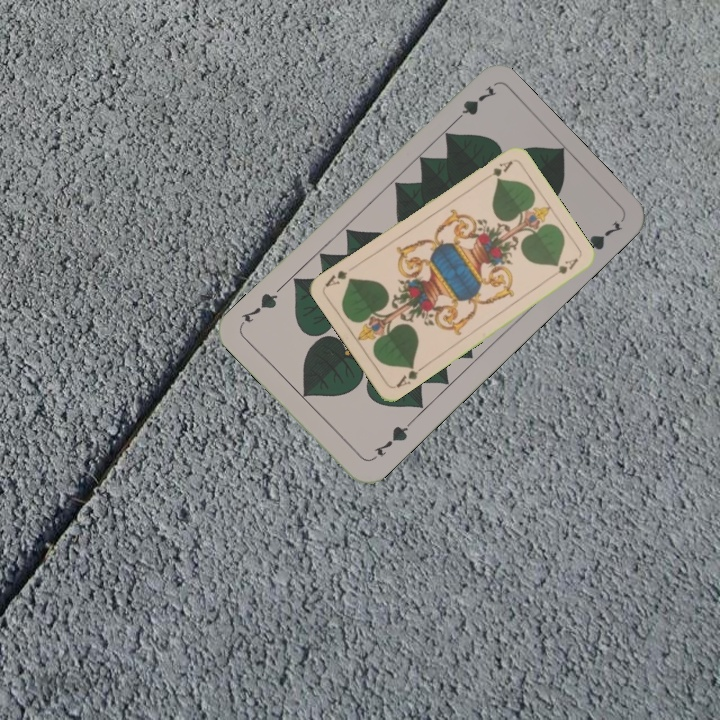G7: (447, 82, 499, 128), (367, 417, 414, 463)
GA: (392, 360, 427, 391), (478, 157, 515, 184)
